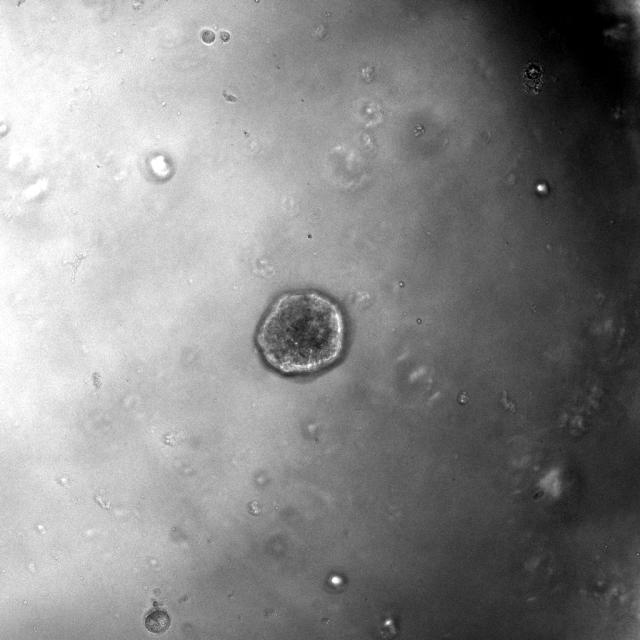organoid: (255, 289, 347, 376), (144, 601, 171, 634), (522, 61, 544, 93), (199, 27, 215, 45), (220, 31, 230, 42)
